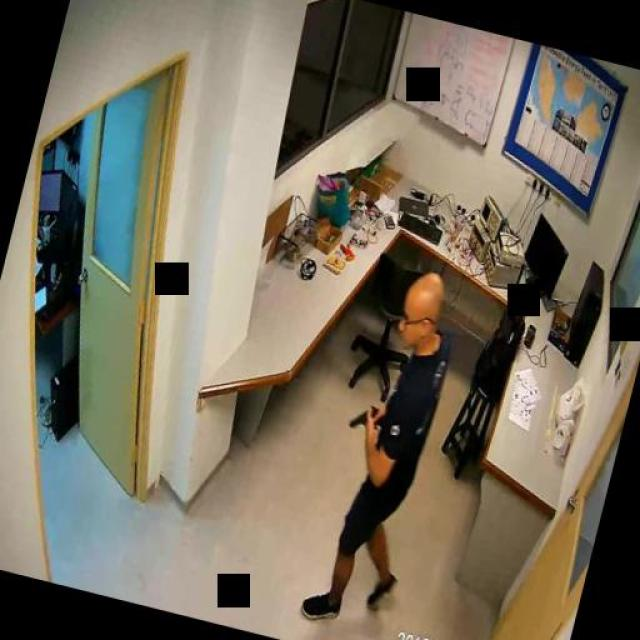gun: (344, 394, 390, 441)
